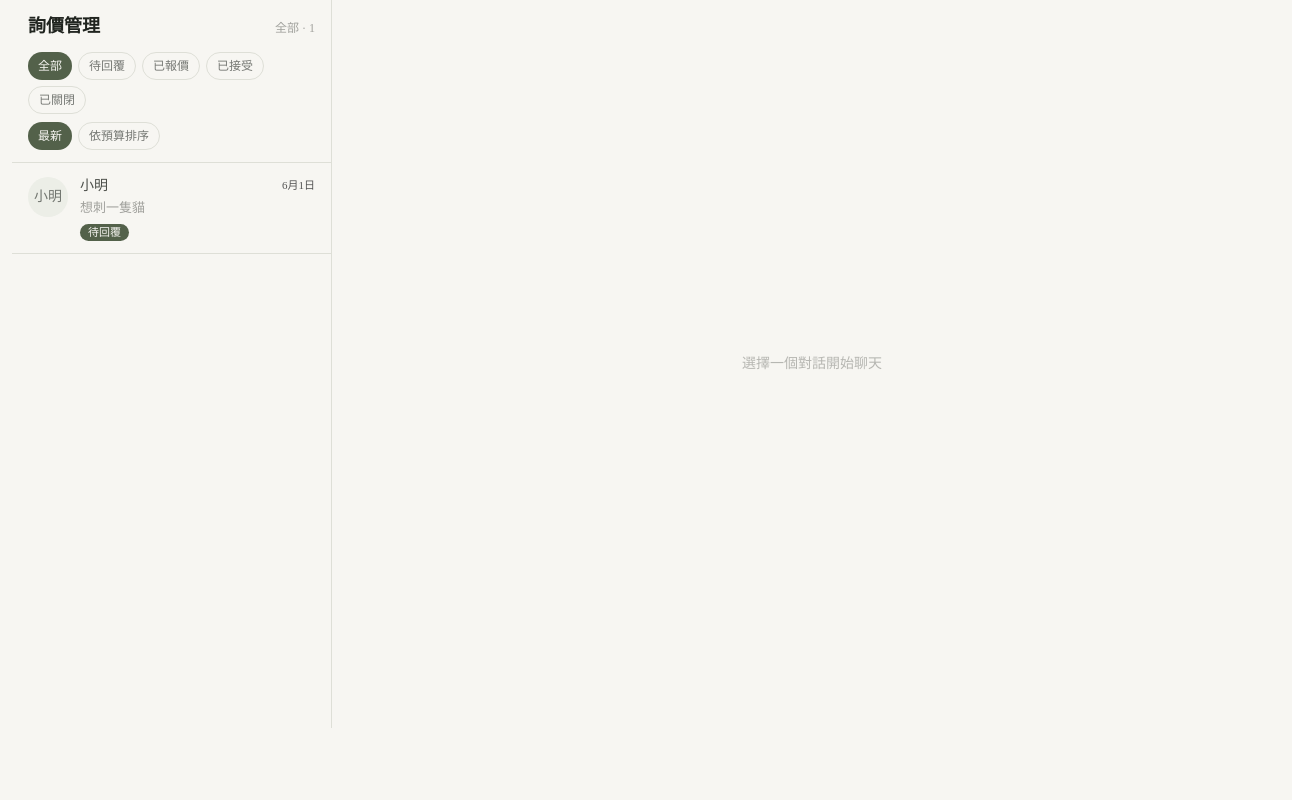
Test: InquiriesPage close-lead wiring › shows an error and does NOT mark the lead closed when the PATCH fails
Click the button "小明 小明 6月1日 想刺一隻貓 待回覆". click: x=48, y=197
box: [12,163,331,254]
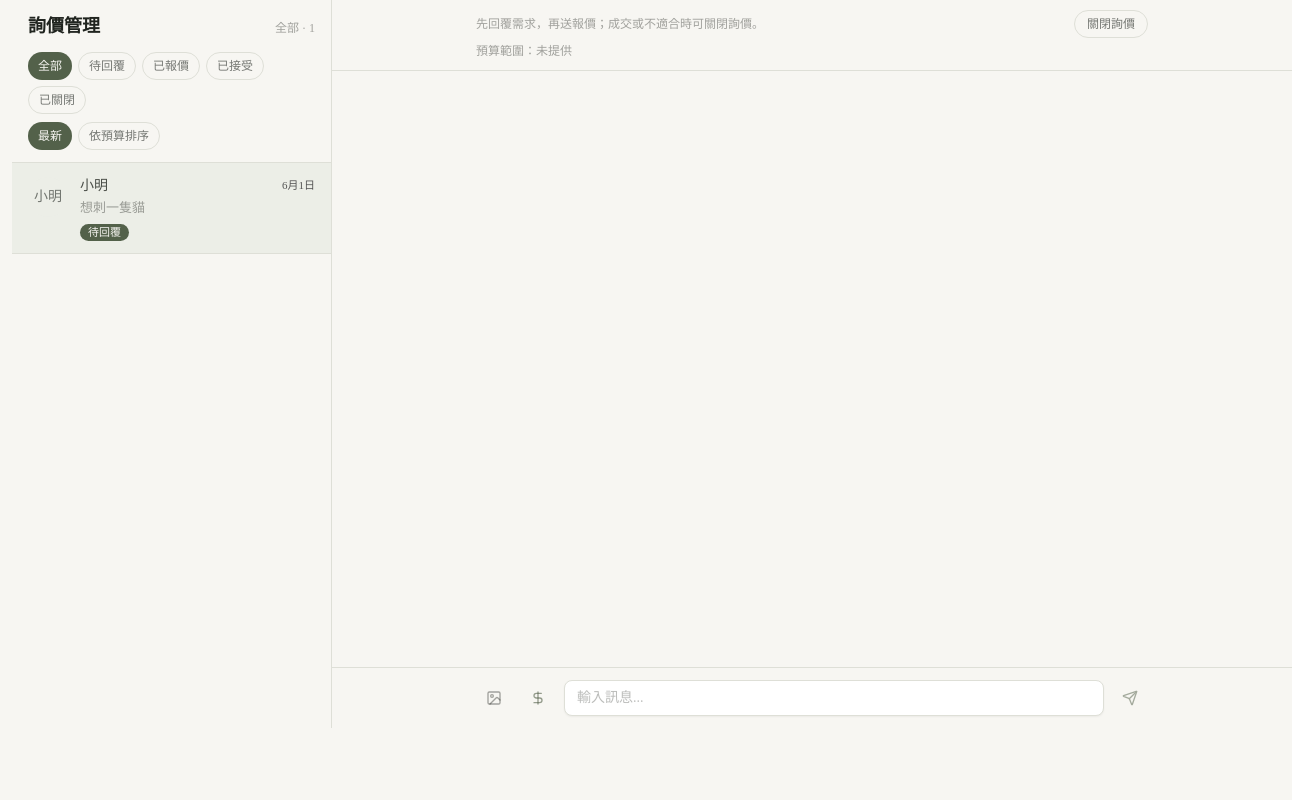
Click the button "關閉詢價". click: x=1111, y=24
box: [1074,10,1148,38]
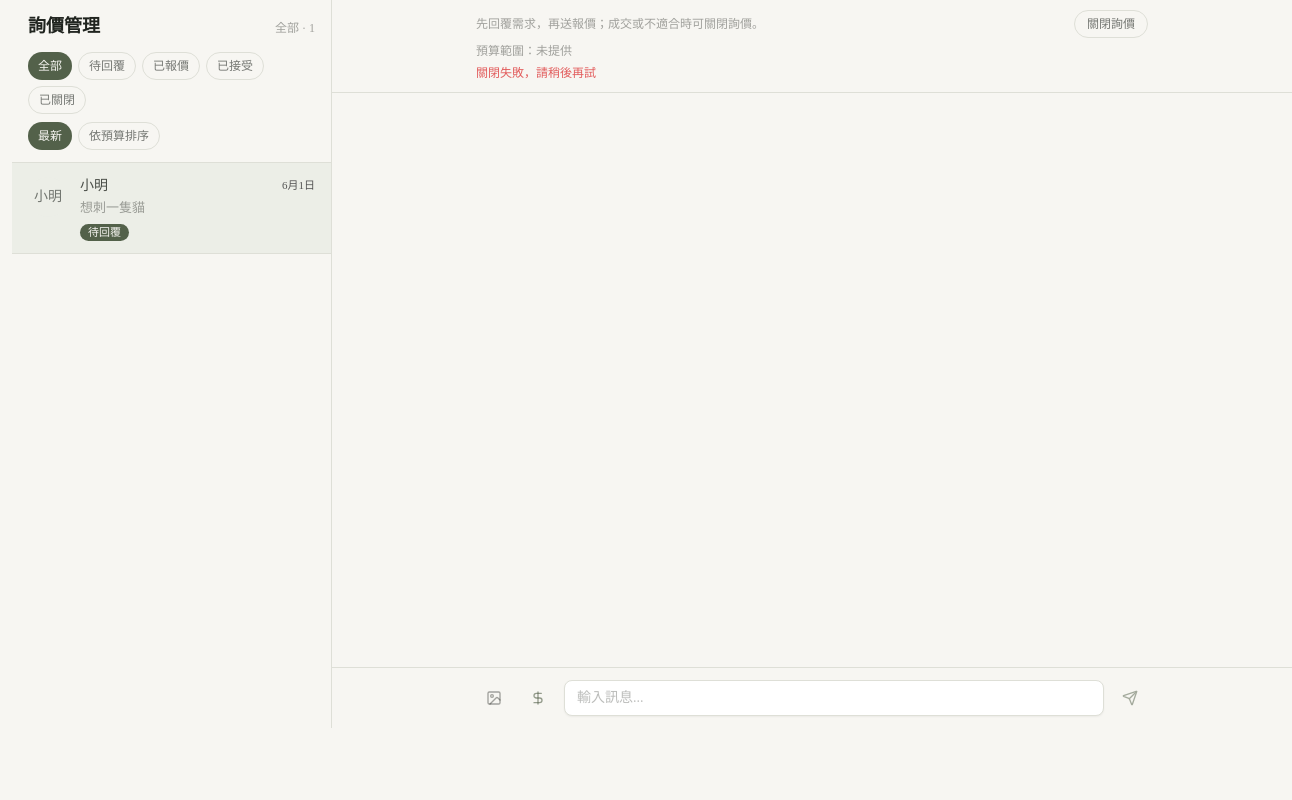
Expected: the button "關閉詢價" is shown, [1074,10,1148,38]
Expected: the text "關閉失敗，請稍後再試" is shown, [476,66,596,80]
